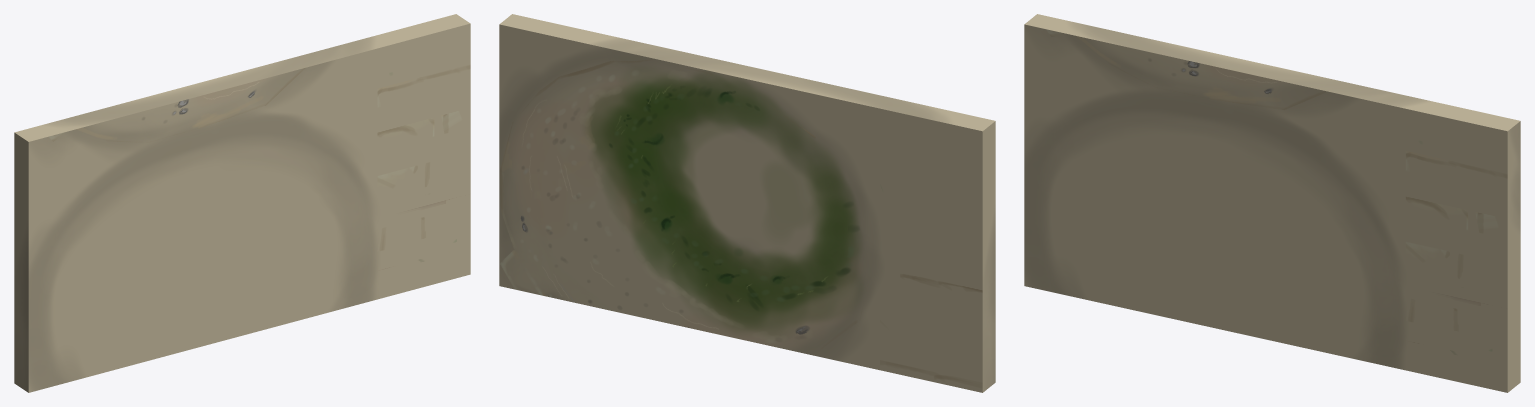
The model's file is constructionsign.fbx.
3 renders of one model, left to right at view 1: azimuth 30°, elevation 25°; view 2: azimuth 150°, elevation 25°; view 3: azimuth 330°, elevation 25°, orthographic. The views are drawn at different scales.
Parts seen in each view (by area): view 1: under construction sign; view 2: under construction sign; view 3: under construction sign.
Part boxes in pixels (<box>): under construction sign: <box>14,14,470,392</box>; under construction sign: <box>499,14,995,392</box>; under construction sign: <box>1024,14,1520,392</box>.
Bounding box in the file's own units: 383 × 202 × 35.38.
Materials: 1 (1 with a texture image).
